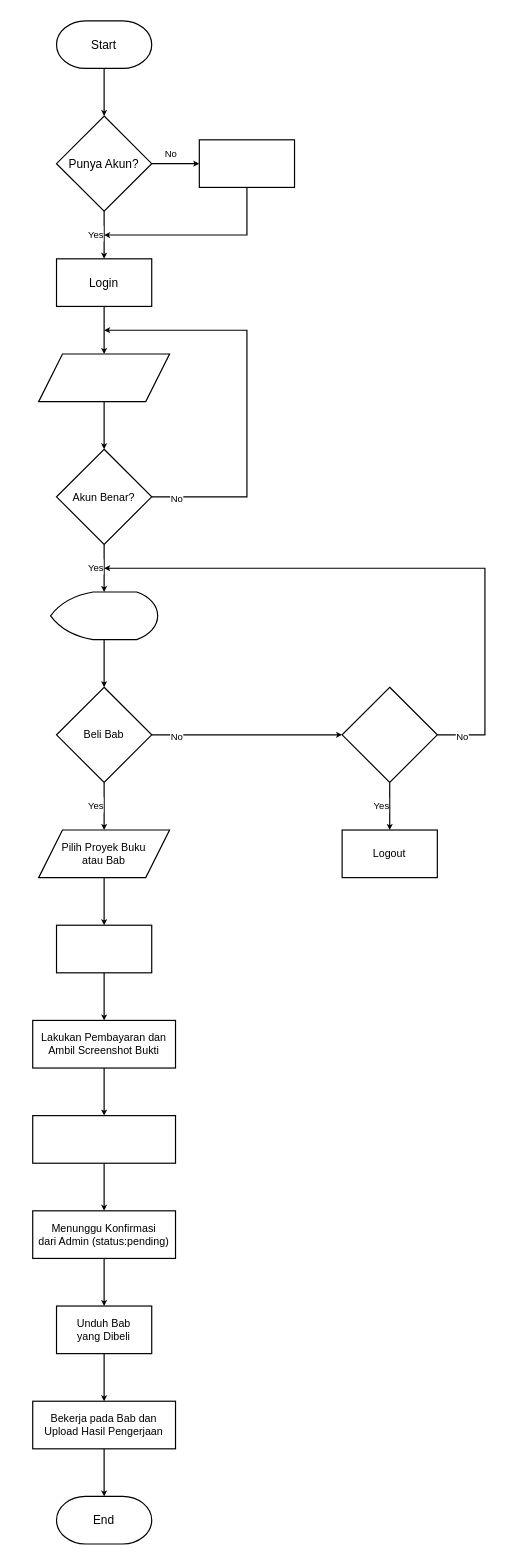
The diagram is 511 pixels wide and 1565 high, and some of its shapes have lost their labels. Here are the shapes that lost their labels. From the top down, the box of each, then its label:
(198, 139, 295, 187): Register
(37, 353, 170, 402): Masukan akun
(49, 591, 158, 640): Daftar Buku Bab
(341, 686, 437, 782): Logout?
(55, 924, 152, 973): Checkout dan Buat Pesanan
(32, 1114, 176, 1163): Upload Screenshot Bukti Pembayaran
